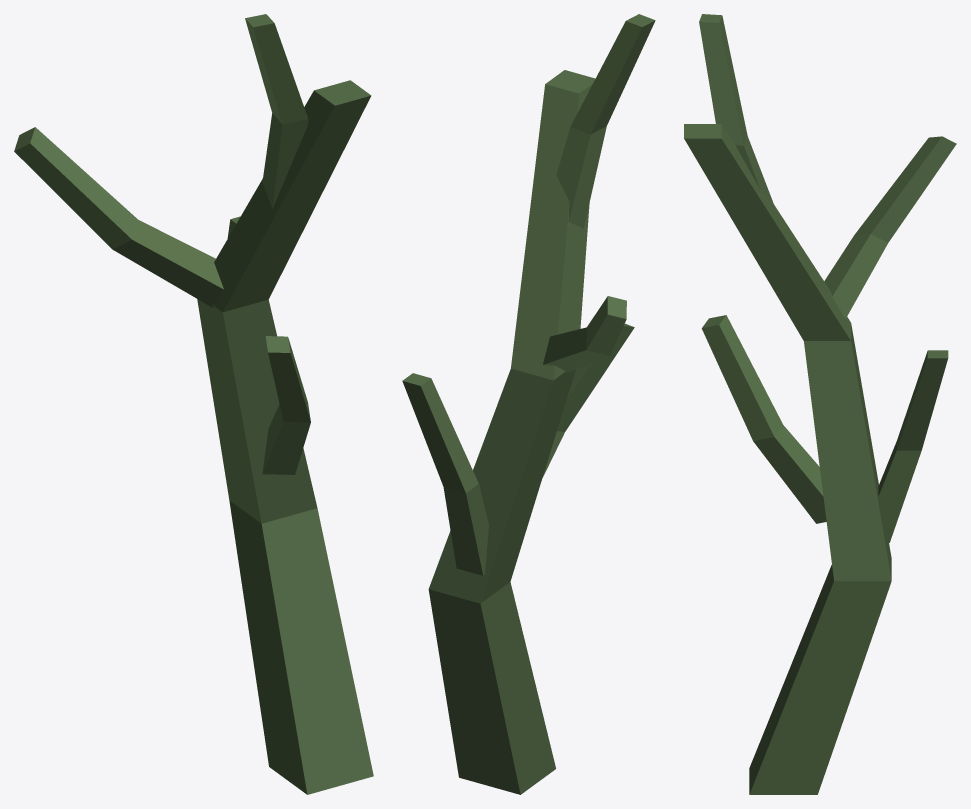
File: GL_Glass 1.fbx
3 views of the same model, side by side, from view 1: azimuth 30°, elevation 25°; view 2: azimuth 150°, elevation 25°; view 3: azimuth 270°, elevation 25° (orthographic). The views are drawn at different scales.
Parts seen in each view (by area): view 1: 平面.001; view 2: 平面.001; view 3: 平面.001.
Boxes of the visible parts, x1,y1,x2,y2 form: 平面.001: (14,14,373,794); 平面.001: (402,14,655,794); 平面.001: (684,14,956,794).
Size of the model in its own units: 45.14 by 139 by 47.65.
